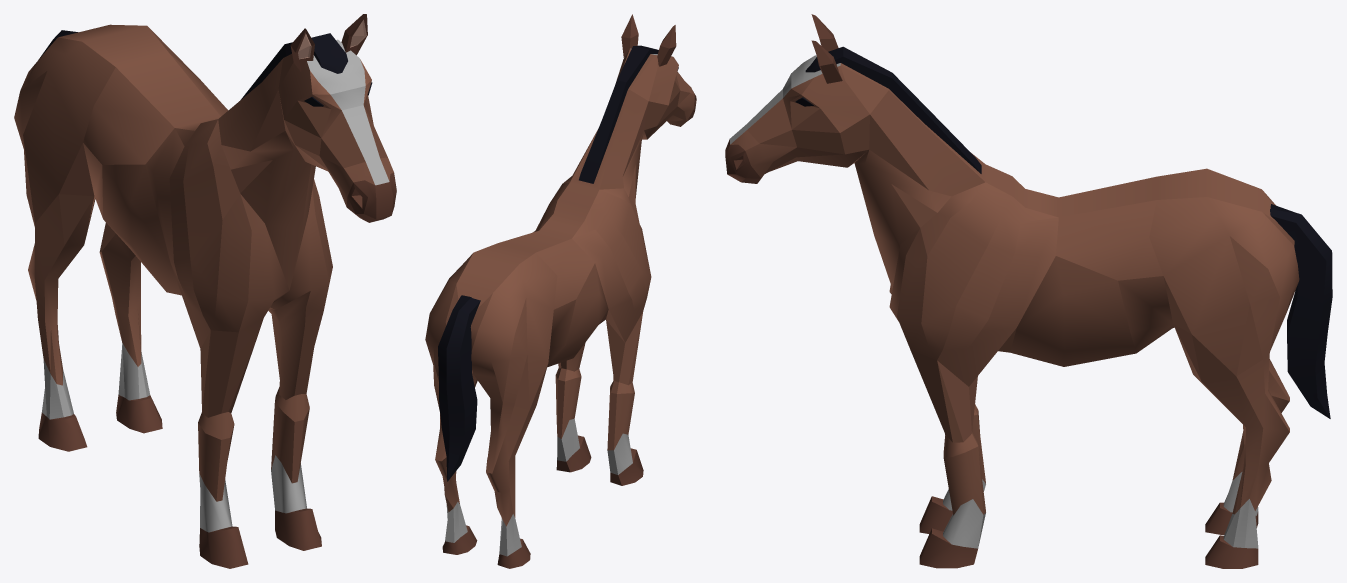
The model's file is Horse.fbx.
3 views of the same model, side by side, from view 1: azimuth 30°, elevation 25°; view 2: azimuth 150°, elevation 25°; view 3: azimuth 270°, elevation 25° (orthographic). The views are drawn at different scales.
Visible parts, largest first — view 1: Horse; view 2: Horse; view 3: Horse.
Part boxes in pixels (box(x1,y1,x2,y2)): Horse: box(14, 14, 396, 568); Horse: box(425, 14, 696, 568); Horse: box(725, 14, 1332, 568).
Size of the model in its own units: 15.81 by 64.87 by 69.
